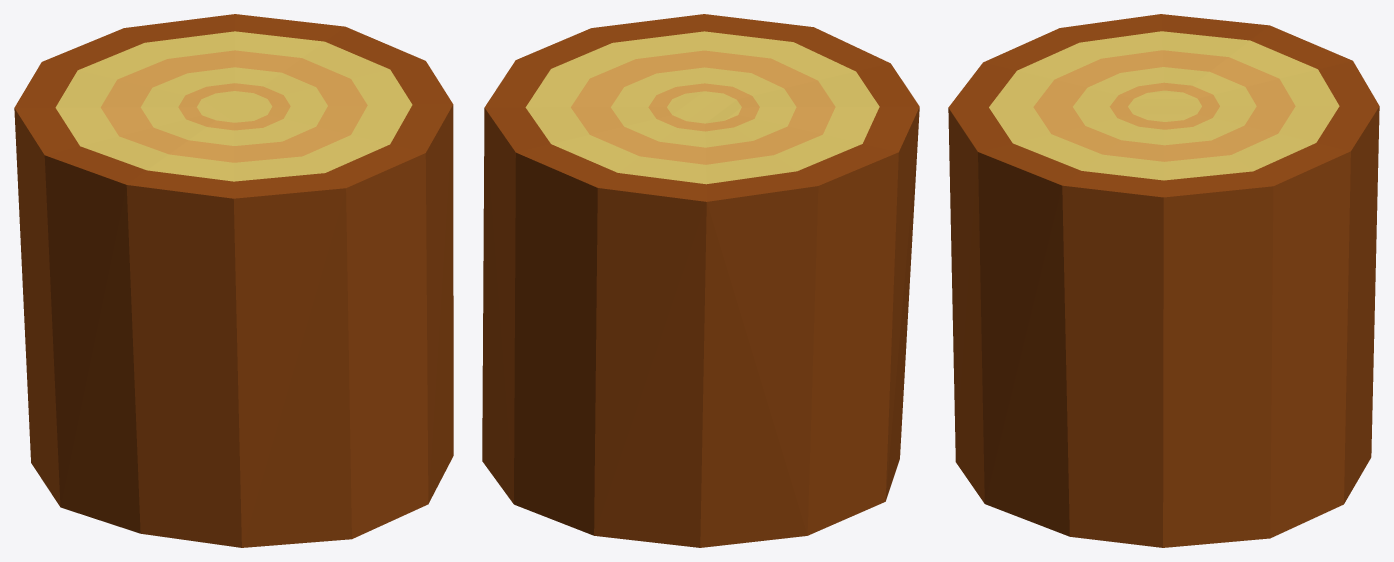
Rendered from TreeTrunkDoubleSide.fbx.
3 renders of one model, left to right at view 1: azimuth 30°, elevation 25°; view 2: azimuth 150°, elevation 25°; view 3: azimuth 270°, elevation 25°, orthographic.
Parts seen in each view (by area): view 1: TreeTrunkDoubleSided; view 2: TreeTrunkDoubleSided; view 3: TreeTrunkDoubleSided.
Part boxes in pixels (<box>): TreeTrunkDoubleSided: <box>14,14,453,547</box>; TreeTrunkDoubleSided: <box>482,14,919,547</box>; TreeTrunkDoubleSided: <box>948,14,1379,547</box>.
Size of the model in its own units: 126 by 112 by 125.
